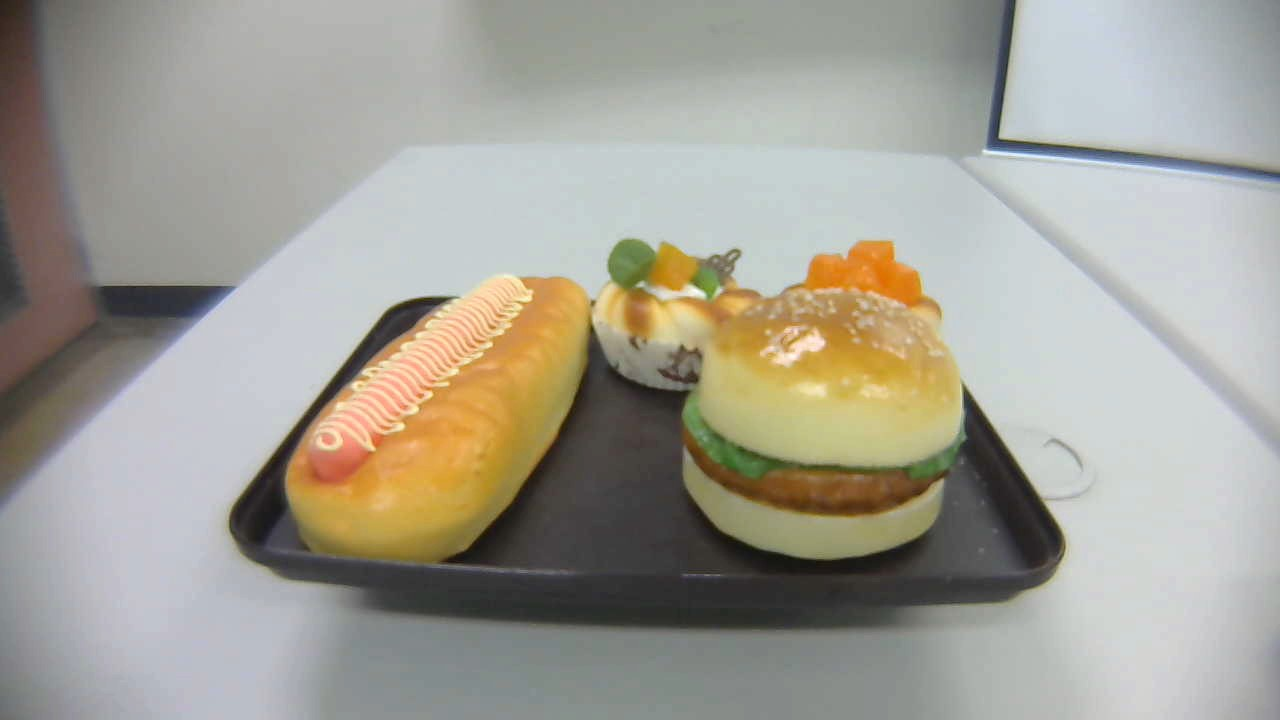fruit tart: (591, 238, 772, 396)
hamburger: (681, 288, 964, 559)
hot dog: (284, 276, 592, 569)
mango tart: (789, 239, 943, 358)
